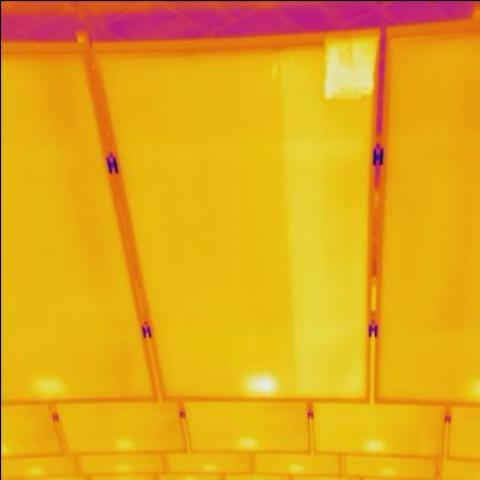fault: (330, 37, 373, 103), (35, 376, 65, 399), (240, 374, 273, 393)
